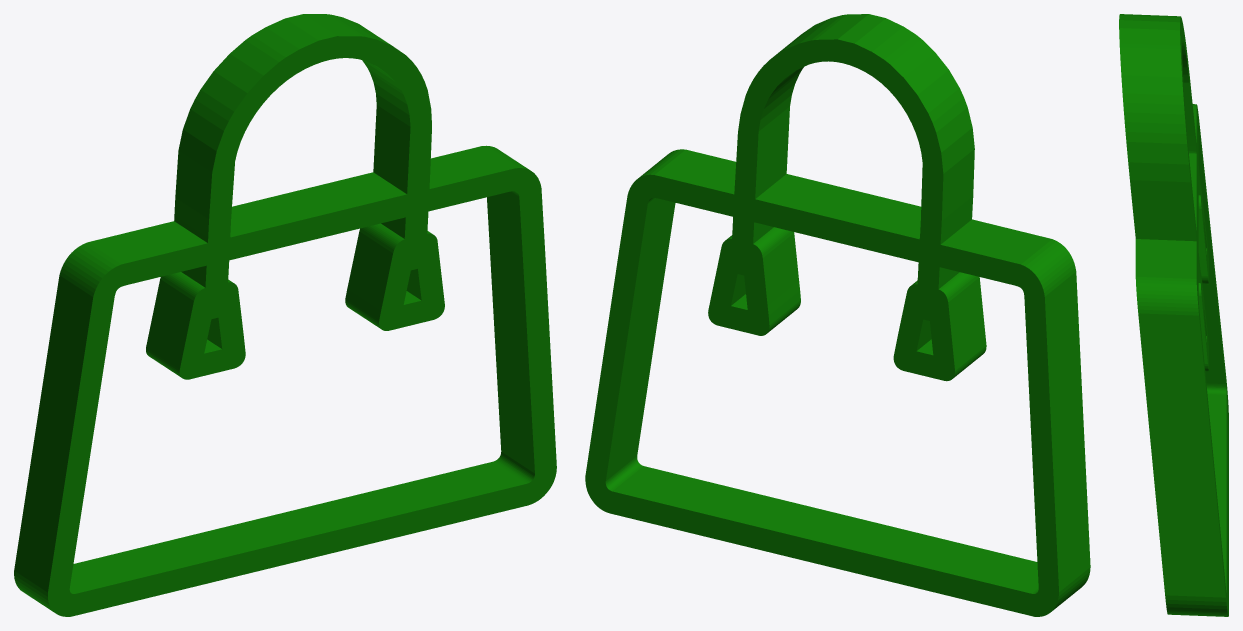
File: bag.glb
The picture shows the model from 3 angles, left to right: view 1: azimuth 30°, elevation 25°; view 2: azimuth 150°, elevation 25°; view 3: azimuth 270°, elevation 25°; orthographic projection. The views are drawn at different scales.
Parts seen in each view (by area): view 1: Curve.003; view 2: Curve.003; view 3: Curve.003.
Boxes of the visible parts, left/top/right/bottom form: Curve.003: left=14, top=14, right=556, bottom=616; Curve.003: left=585, top=14, right=1090, bottom=616; Curve.003: left=1119, top=14, right=1228, bottom=616.
Bounding box in the file's own units: 0.1104 × 0.113 × 0.0229.
